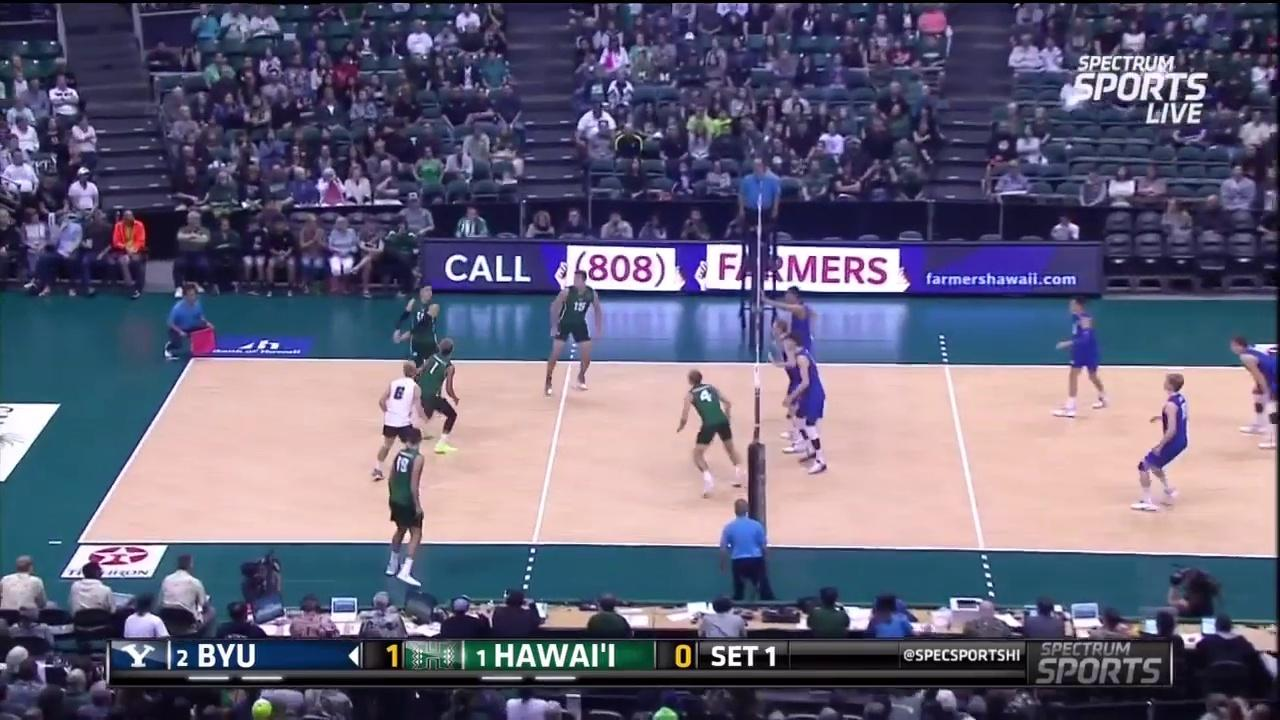player: (371, 430, 433, 593), (681, 373, 742, 499), (1133, 379, 1189, 511), (542, 268, 598, 393), (785, 332, 831, 477), (1054, 300, 1109, 416), (373, 363, 425, 484), (774, 286, 821, 419), (771, 321, 816, 451), (1230, 337, 1280, 450), (399, 276, 449, 385), (413, 343, 462, 452)
refree: (733, 151, 784, 283), (718, 501, 784, 601), (160, 276, 217, 361)
